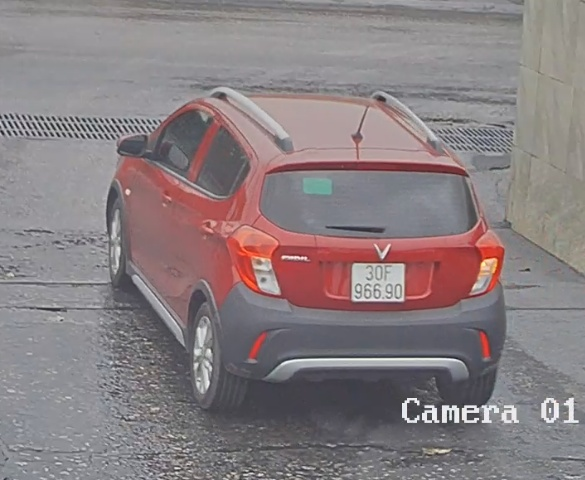vehicle plate: (344, 256, 411, 306)
